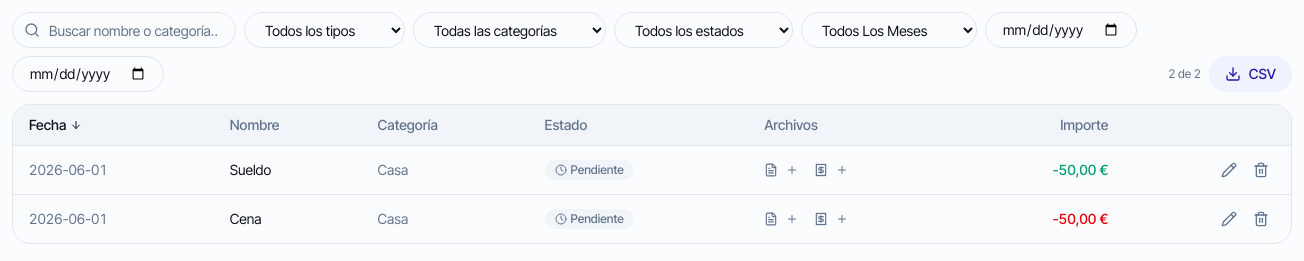
it: MovimientosTable › filtra por tipo (flujo)
Select "Ingreso" in the dropdown named "Filtrar por tipo" at (324, 30), box [244,12,405,48]
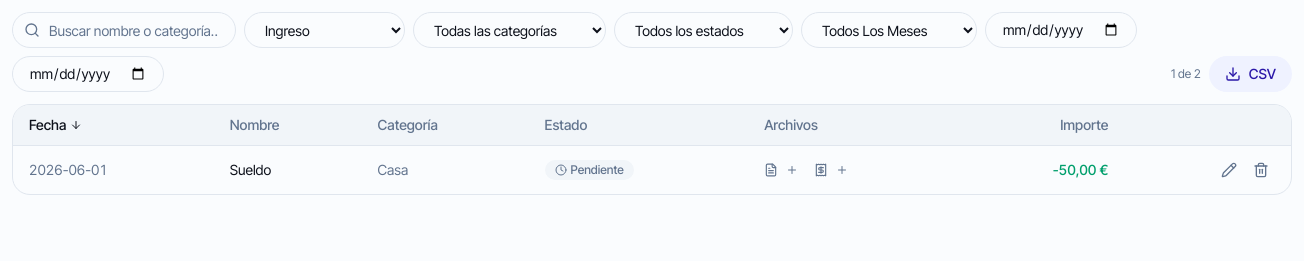
Expected: the text "Sueldo" is shown, [214,146,362,194]
Expected: the text "Cena" is gone
